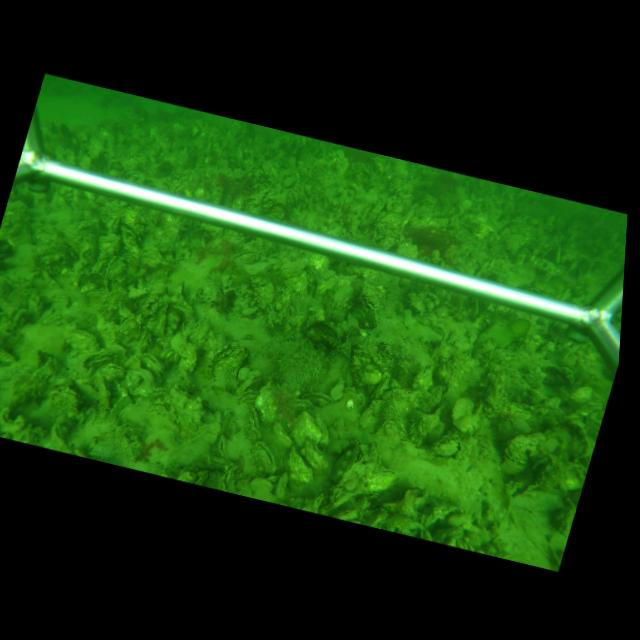Oyster-Closed: (322, 441, 368, 511), (169, 383, 204, 438), (292, 410, 328, 445), (284, 448, 314, 483), (351, 295, 378, 329), (302, 439, 329, 472), (251, 441, 276, 473), (81, 349, 114, 368), (245, 405, 261, 441), (370, 371, 391, 396), (217, 462, 235, 491), (342, 387, 366, 407), (300, 392, 333, 404), (275, 472, 289, 499)
Oyster-Indeterminate: (210, 344, 248, 377), (449, 396, 478, 433), (308, 320, 337, 345), (348, 345, 363, 384)
